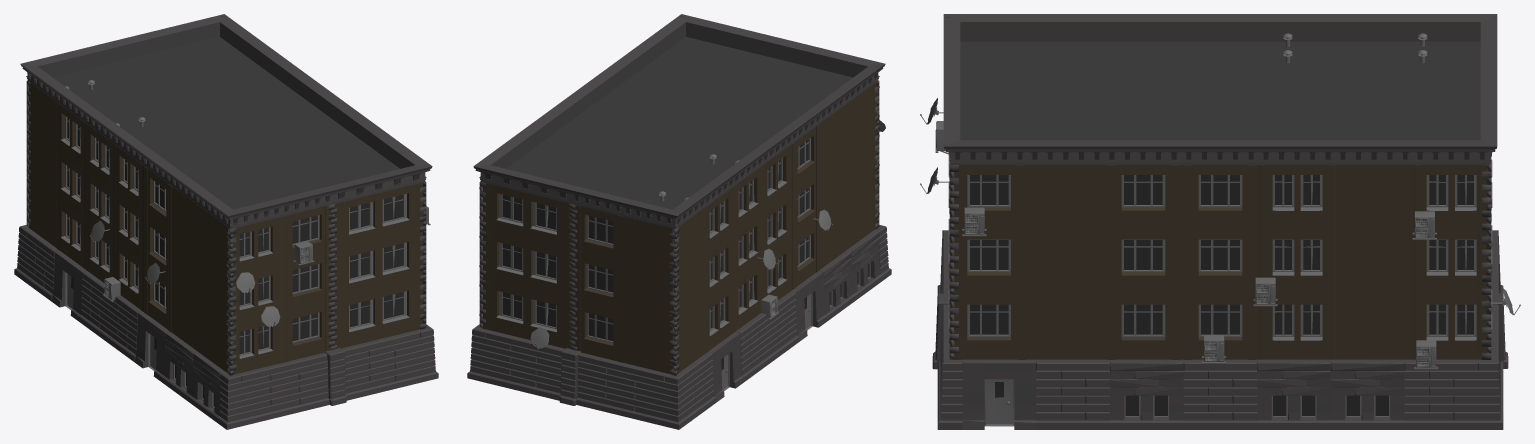
3 renders of one model, left to right at view 1: azimuth 30°, elevation 25°; view 2: azimuth 150°, elevation 25°; view 3: azimuth 270°, elevation 25°, orthographic. The views are drawn at different scales.
Visible parts, largest first — view 1: Plane.003, ground_floor_wall_02.067, middle_floor_wall_02.259, middle_floor_wall_02.258, middle_floor_wall_02.257, ground_floor_wall_02.064, middle_floor_wall_03.070, middle_floor_wall_03.071, middle_floor_wall_02.250, middle_floor_wall_02.248, middle_floor_wall_03.072, trimm.112 (+56 smaller); view 2: Plane.003, ground_floor_wall_02.066, middle_floor_wall_02.262, middle_floor_wall_02.261, ground_floor_wall_02.065, middle_floor_wall_02.260, middle_floor_wall_03.066, middle_floor_wall_03.065, middle_floor_wall_03.064, middle_floor_wall_01.100, middle_floor_wall_01.099, middle_floor_wall_01.098 (+55 smaller); view 3: Plane.003, ground_floor_wall_03.017, ground_floor_wall_03.018, ground_floor_wall_02.061, ground_floor_wall_03.016, ground_floor_wall_01.021, ground_floor_wall_02.062, ground_floor_wall_02.063, middle_floor_wall_01.110, middle_floor_wall_01.111, middle_floor_wall_03.074, middle_floor_wall_03.080 (+46 smaller).
Part boxes in pixels (left/top/right/bottom): Plane.003: left=53, top=37, right=399, bottom=209; ground_floor_wall_02.067: left=239, top=352, right=329, bottom=425; middle_floor_wall_02.259: left=334, top=182, right=422, bottom=251; middle_floor_wall_02.258: left=335, top=231, right=422, bottom=300; middle_floor_wall_02.257: left=335, top=280, right=422, bottom=348; ground_floor_wall_02.064: left=341, top=330, right=422, bottom=400; middle_floor_wall_03.070: left=281, top=303, right=330, bottom=362; middle_floor_wall_03.071: left=281, top=254, right=330, bottom=313; middle_floor_wall_02.250: left=233, top=217, right=281, bottom=277; middle_floor_wall_02.248: left=233, top=314, right=281, bottom=374; middle_floor_wall_03.072: left=281, top=205, right=330, bottom=265; trimm.112: left=127, top=15, right=222, bottom=57; Plane.003: left=506, top=37, right=852, bottom=209; ground_floor_wall_02.066: left=576, top=352, right=666, bottom=425; middle_floor_wall_02.262: left=483, top=182, right=570, bottom=252; middle_floor_wall_02.261: left=483, top=232, right=570, bottom=301; ground_floor_wall_02.065: left=483, top=330, right=564, bottom=400; middle_floor_wall_02.260: left=483, top=280, right=570, bottom=348; middle_floor_wall_03.066: left=574, top=204, right=624, bottom=265; middle_floor_wall_03.065: left=575, top=254, right=624, bottom=313; middle_floor_wall_03.064: left=575, top=302, right=624, bottom=362; middle_floor_wall_01.100: left=624, top=217, right=672, bottom=276; middle_floor_wall_01.099: left=624, top=265, right=672, bottom=325; middle_floor_wall_01.098: left=624, top=314, right=672, bottom=373; Plane.003: left=960, top=41, right=1480, bottom=140; ground_floor_wall_03.017: left=1257, top=359, right=1330, bottom=429; ground_floor_wall_03.018: left=1331, top=359, right=1404, bottom=429; ground_floor_wall_02.061: left=1036, top=359, right=1109, bottom=429; ground_floor_wall_03.016: left=1110, top=359, right=1183, bottom=429; ground_floor_wall_01.021: left=962, top=359, right=1036, bottom=429; ground_floor_wall_02.062: left=1183, top=359, right=1257, bottom=429; ground_floor_wall_02.063: left=1404, top=359, right=1478, bottom=429; middle_floor_wall_01.110: left=1028, top=294, right=1104, bottom=359; middle_floor_wall_01.111: left=1336, top=294, right=1412, bottom=359; middle_floor_wall_03.074: left=1105, top=294, right=1181, bottom=359; middle_floor_wall_03.080: left=1105, top=165, right=1181, bottom=230.
Bounding box in the file's own units: 1459 × 1313 × 2543.
